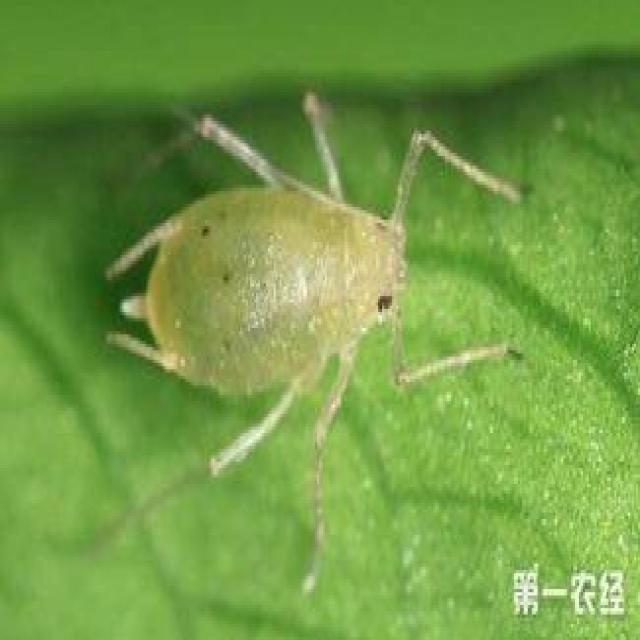Aphids: (68, 75, 550, 527)
